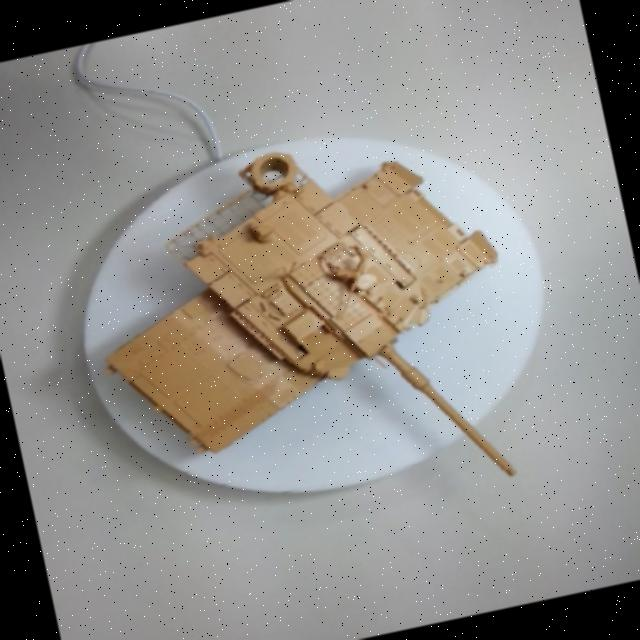korea tank: (49, 90, 576, 580)
